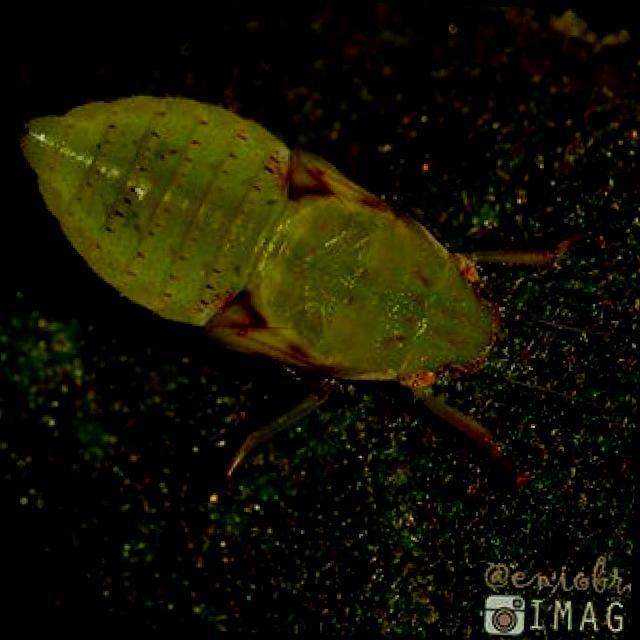green leaf hopper: (21, 96, 551, 475)
